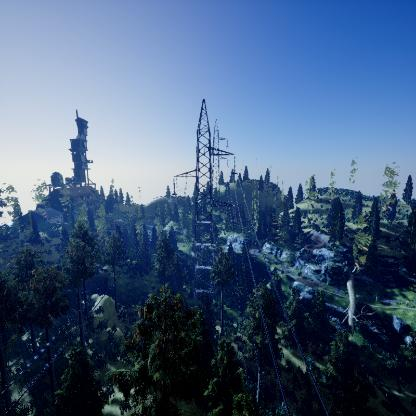tower: (169, 95, 241, 320)
